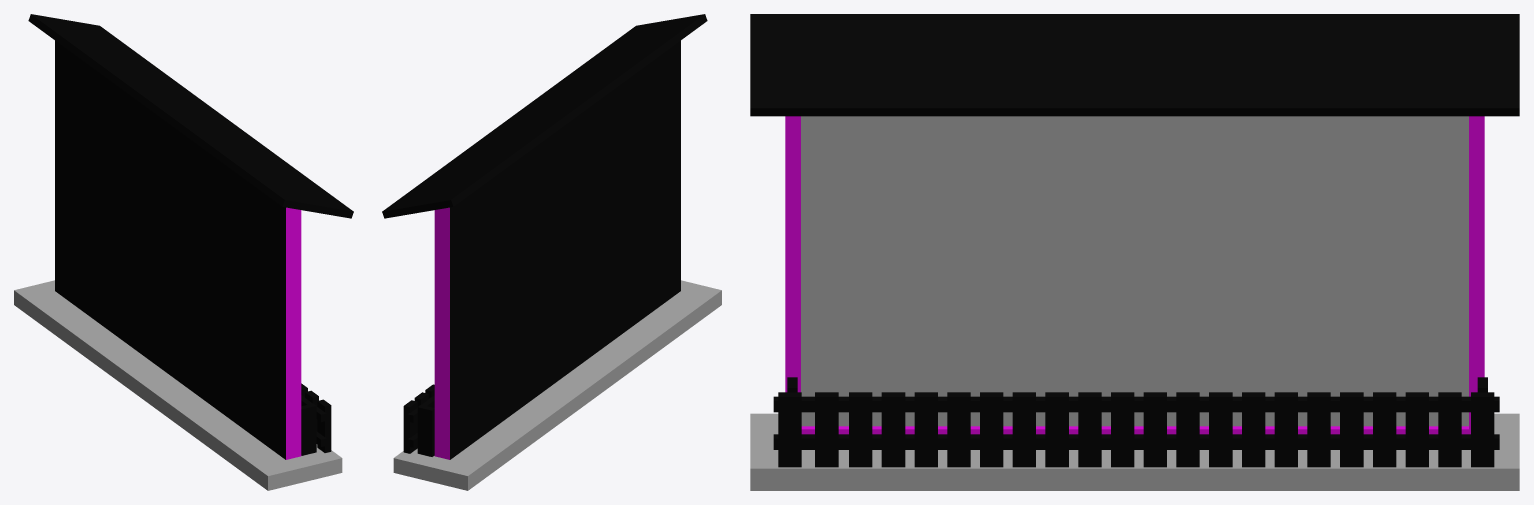
File: Banner Shade.fbx
The picture shows the model from 3 angles, left to right: view 1: azimuth 30°, elevation 25°; view 2: azimuth 150°, elevation 25°; view 3: azimuth 270°, elevation 25°; orthographic projection. The views are drawn at different scales.
Visible parts, largest first — view 1: Banner_Shade; view 2: Banner_Shade; view 3: Banner_Shade.
Boxes of the visible parts, left/top/right/bottom form: Banner_Shade: left=14, top=14, right=353, bottom=490; Banner_Shade: left=382, top=14, right=721, bottom=490; Banner_Shade: left=750, top=14, right=1519, bottom=490.
Size of the model in its own units: 145 by 464 by 744.
